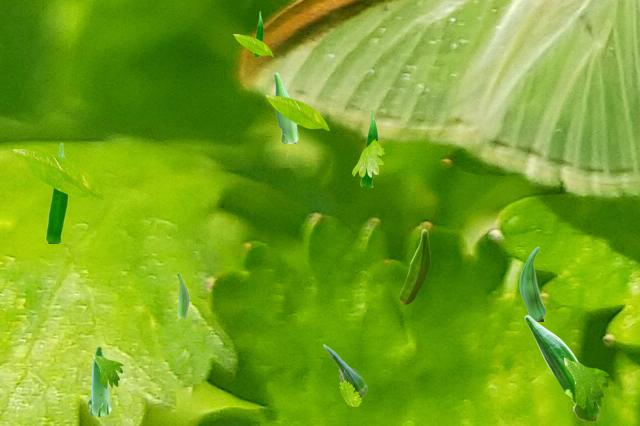okra: (524, 315, 597, 419), (45, 142, 68, 242), (323, 344, 366, 397), (399, 229, 429, 303), (519, 246, 544, 320), (273, 72, 297, 142), (87, 346, 111, 416), (360, 108, 377, 186), (177, 273, 188, 317), (253, 11, 262, 55)
